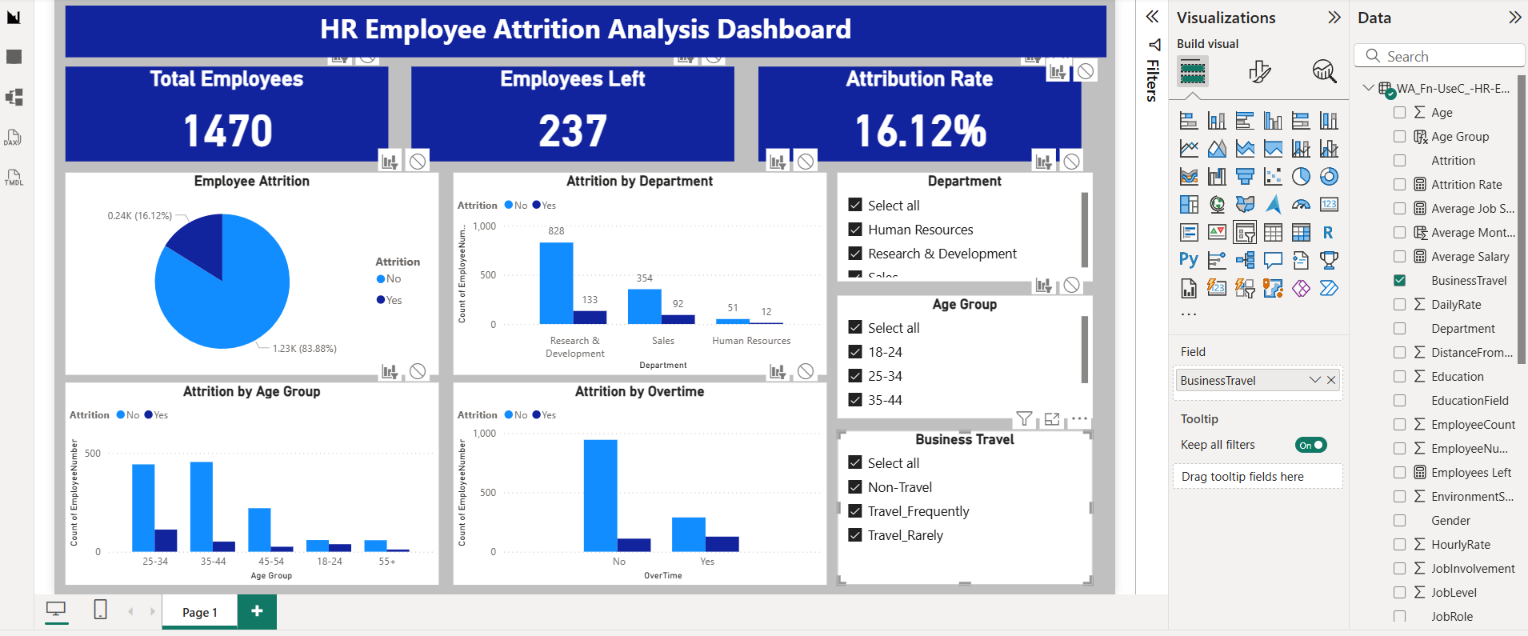

Layout of this report page (visuals, bound fields, positions):
{"tool":"powerbi","page":{"name":"Page 1","canvas":[1280,720],"ordinal":0},"visuals":[{"type":"card","title":"Total Employees","fields":{"Values":["WA_Fn-UseC_-HR-Employee-Attrition.Total Employees"]},"box":[13.3,83.2,389.7,114.6],"z":0},{"type":"card","title":"Employees Left","fields":{"Values":["WA_Fn-UseC_-HR-Employee-Attrition.Employees Left"]},"box":[430.7,83.2,389.7,114.6],"z":1000},{"type":"card","title":"Attribution Rate","fields":{"Values":["WA_Fn-UseC_-HR-Employee-Attrition.Attrition Rate"]},"box":[849.3,83.2,389.7,114.6],"z":2000},{"type":"textbox","box":[13.3,9.7,1255.9,62.7],"z":3000},{"type":"clusteredColumnChart","title":"Attrition by Department","fields":{"Category":["WA_Fn-UseC_-HR-Employee-Attrition.Department"],"Y":["CountNonNull(WA_Fn-UseC_-HR-Employee-Attrition.EmployeeNumber)"],"Series":["WA_Fn-UseC_-HR-Employee-Attrition.Attrition"]},"box":[481.4,211.1,450,243.7],"z":4000},{"type":"pieChart","title":"Employee Attrition","fields":{"Category":["WA_Fn-UseC_-HR-Employee-Attrition.Attrition"],"Y":["CountNonNull(WA_Fn-UseC_-HR-Employee-Attrition.EmployeeNumber)"]},"box":[13.3,211.1,450,243.7],"z":4001},{"type":"clusteredColumnChart","title":"Attrition by Age Group","fields":{"Category":["WA_Fn-UseC_-HR-Employee-Attrition.Age Group"],"Y":["CountNonNull(WA_Fn-UseC_-HR-Employee-Attrition.EmployeeNumber)"],"Series":["WA_Fn-UseC_-HR-Employee-Attrition.Attrition"]},"box":[13,465,450,244],"z":4002},{"type":"clusteredColumnChart","title":"Attrition by Overtime","fields":{"Category":["WA_Fn-UseC_-HR-Employee-Attrition.OverTime"],"Y":["CountNonNull(WA_Fn-UseC_-HR-Employee-Attrition.EmployeeNumber)"],"Series":["WA_Fn-UseC_-HR-Employee-Attrition.Attrition"]},"box":[481,465,450,244],"z":4003},{"type":"slicer","title":"Department","fields":{"Values":["WA_Fn-UseC_-HR-Employee-Attrition.Department"]},"box":[944.6,211.1,307.6,131.5],"z":4004},{"type":"slicer","title":"Age Group","fields":{"Values":["WA_Fn-UseC_-HR-Employee-Attrition.Age Group"]},"box":[944.6,359.5,307.6,148.4],"z":4005},{"type":"slicer","title":"Business Travel","fields":{"Values":["WA_Fn-UseC_-HR-Employee-Attrition.BusinessTravel"]},"box":[944.6,522.4,307.6,185.8],"z":4006}]}

Visuals, with their boxes in screenshot pixels (x1, y1, x2, y2):
"Total Employees" card: Rect(59, 62, 387, 158)
"Employees Left" card: Rect(410, 62, 738, 158)
"Attribution Rate" card: Rect(762, 62, 1090, 158)
textbox: Rect(59, 0, 1115, 53)
"Attrition by Department" clusteredColumnChart: Rect(453, 170, 831, 375)
"Employee Attrition" pieChart: Rect(59, 170, 437, 375)
"Attrition by Age Group" clusteredColumnChart: Rect(59, 383, 437, 588)
"Attrition by Overtime" clusteredColumnChart: Rect(452, 383, 831, 588)
"Department" slicer: Rect(842, 170, 1101, 280)
"Age Group" slicer: Rect(842, 294, 1101, 419)
"Business Travel" slicer: Rect(842, 431, 1101, 588)
